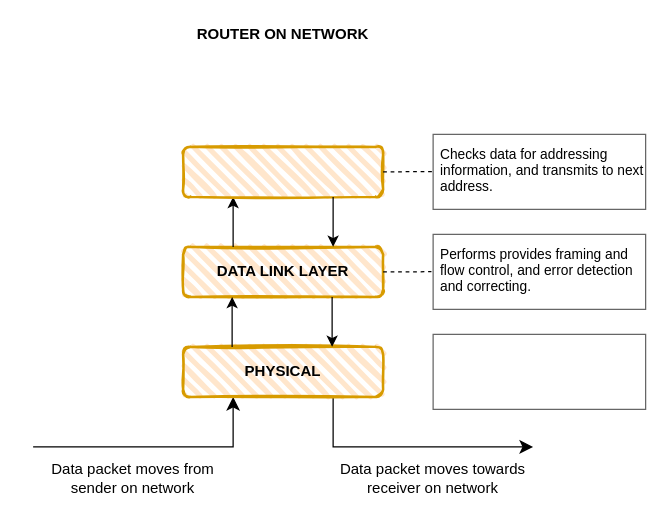
Image size: 668x518. Some labels were removed from this diagram. Here are the shapes that lost their labels. From the top down, the centre of each, then its label:
point 282,171: NETWORK
point 539,371: The physical components of a network e.g., cabling, router, etc.
